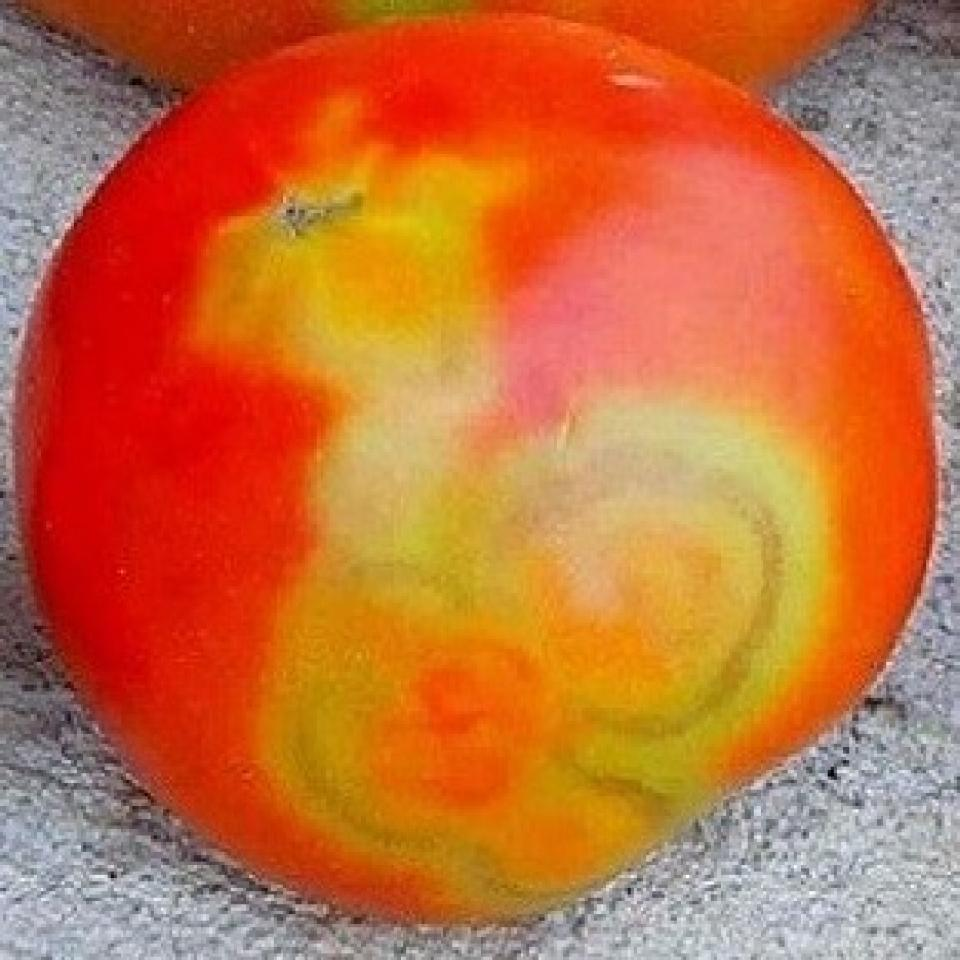Spotted wilt Virus: (15, 16, 935, 924)
